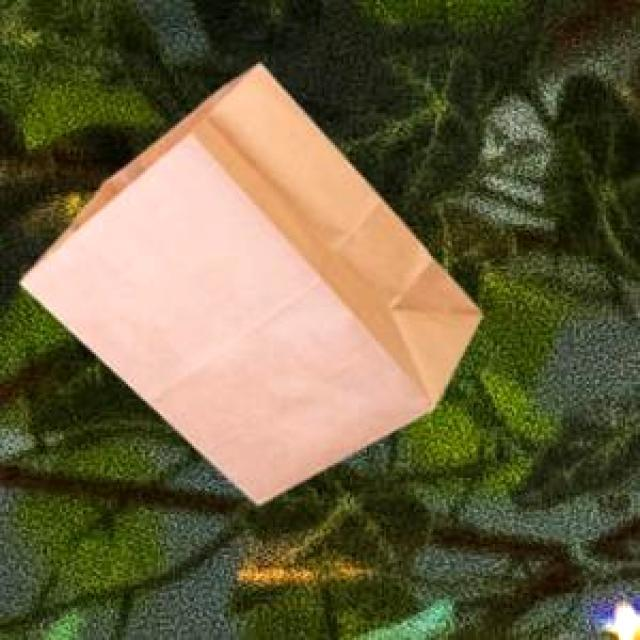Paper_Bag: (18, 61, 479, 500)
